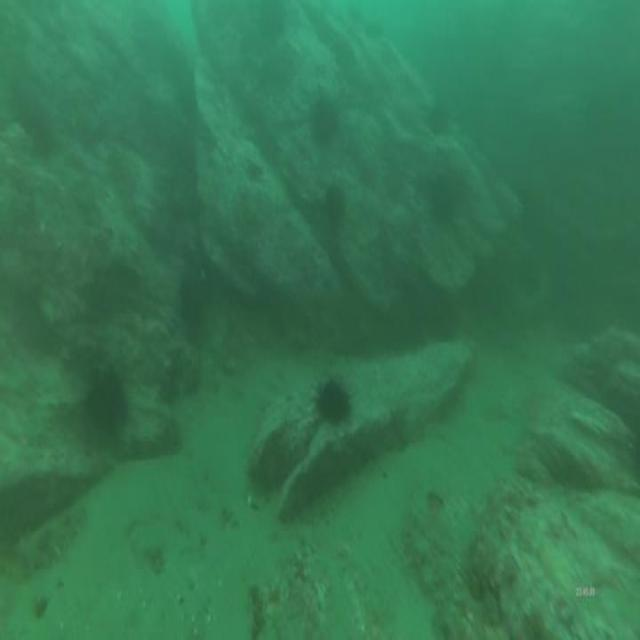echinus: (84, 359, 130, 439), (311, 374, 352, 432), (175, 274, 206, 342), (428, 172, 462, 234), (308, 90, 338, 150), (419, 98, 454, 142), (324, 180, 346, 231), (258, 0, 288, 36)
holothurian: (14, 498, 88, 588), (233, 220, 278, 259)
